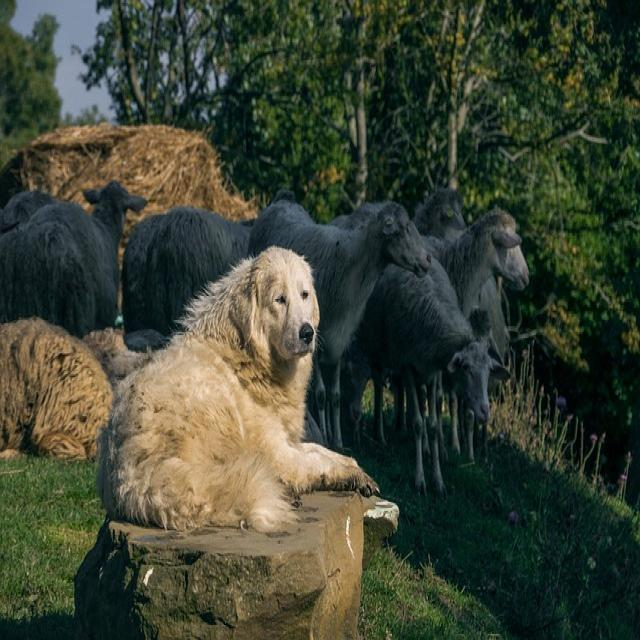goat: (249, 195, 431, 450), (349, 259, 502, 489), (0, 180, 146, 337), (122, 207, 251, 335), (422, 212, 521, 318)
